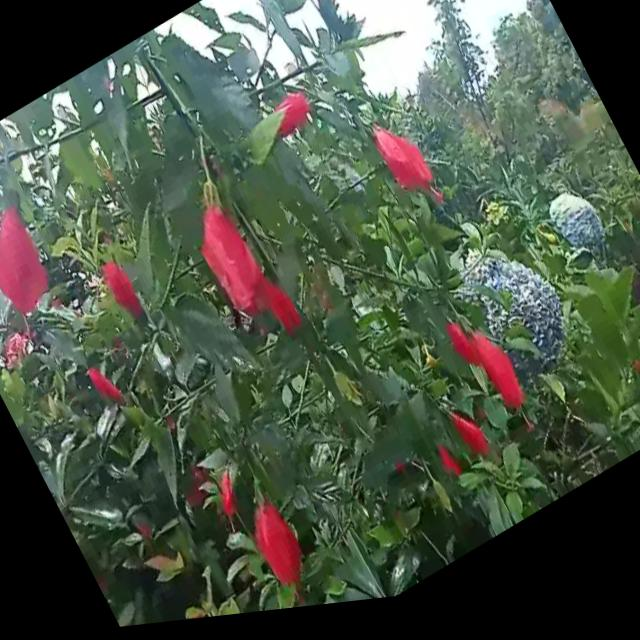Flower: (176, 168, 302, 358), (459, 232, 585, 405), (235, 482, 325, 617), (446, 309, 532, 441), (0, 177, 70, 328), (358, 101, 445, 222), (542, 187, 614, 282), (254, 83, 324, 161), (98, 255, 154, 341), (441, 401, 497, 480), (85, 356, 128, 417)
